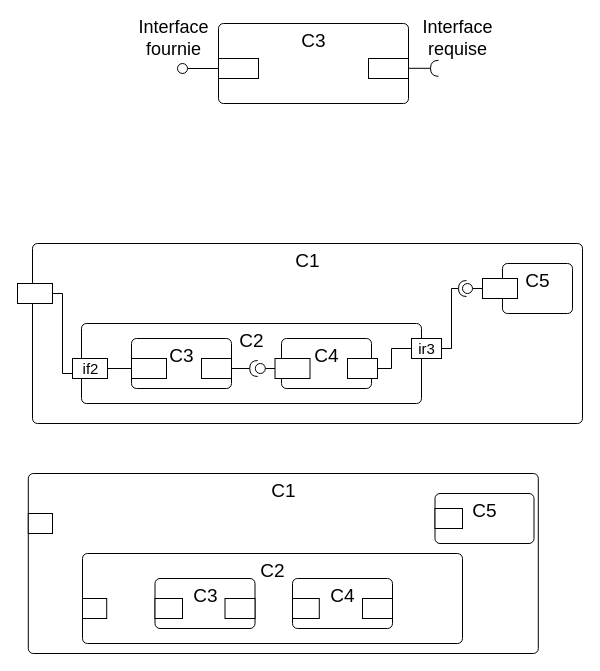
The diagram is 600 pixels wide and 671 high, and some of its shapes have lost their labels. Each missing label, with the centre of its shape:
if: the point at 238,68
if1: the point at 34,293
if3: the point at 148,368
if4: the point at 292,368
if5: the point at 500,288
ir: the point at 388,68
ir1: the point at 216,368
ir2: the point at 362,368
